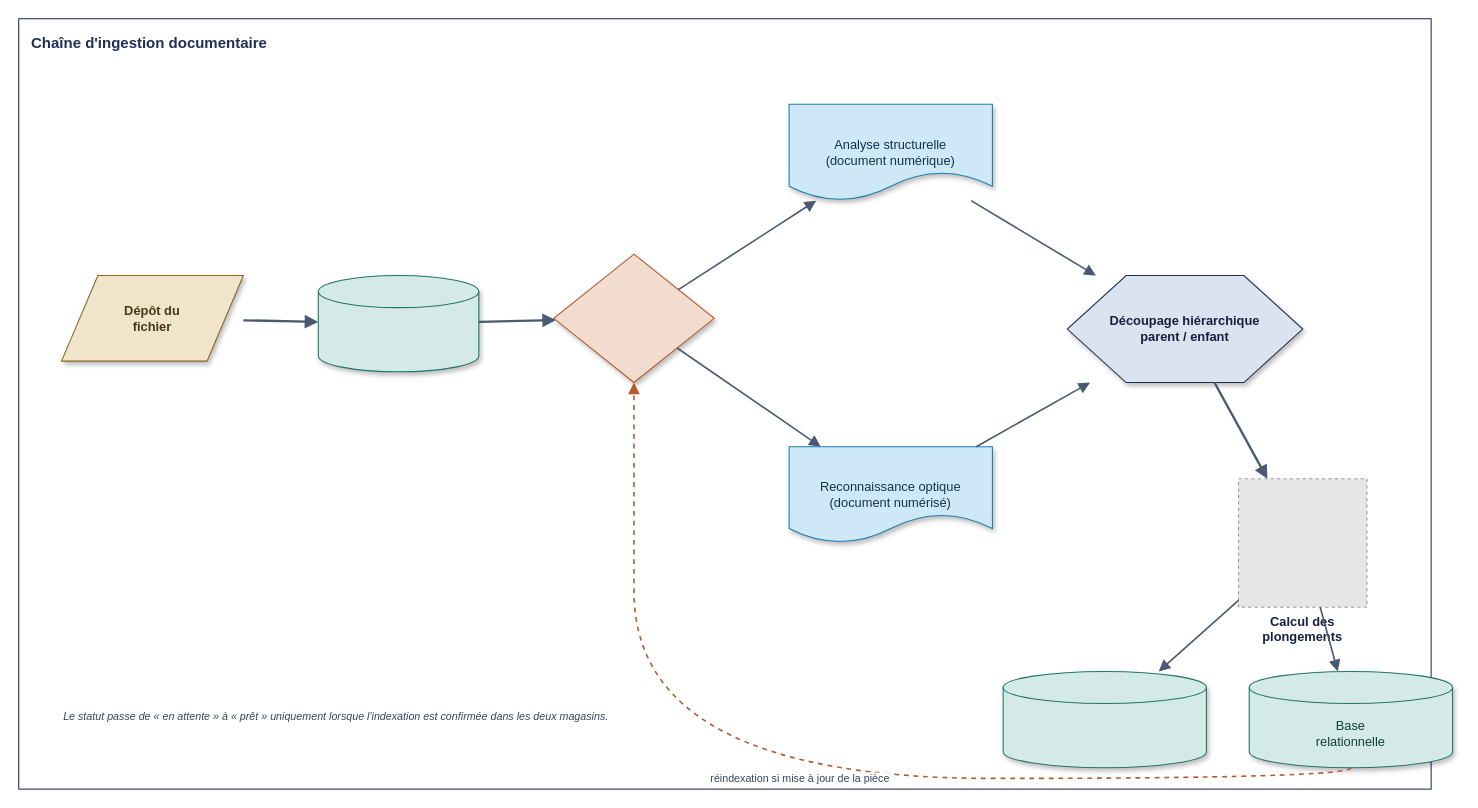
The diagram is 1478 pixels wide and 808 high, and some of its shapes have lost their labels. Grey dashed boxes stand in for pictures. The shapes that lost their labels are listed below. From the top down, each one's centre as x and y in pixels, then its label:
the point at 399,324: Stockage objet
the point at 634,319: Détection du type de contenu
the point at 1105,720: Index vectoriel et lexical
